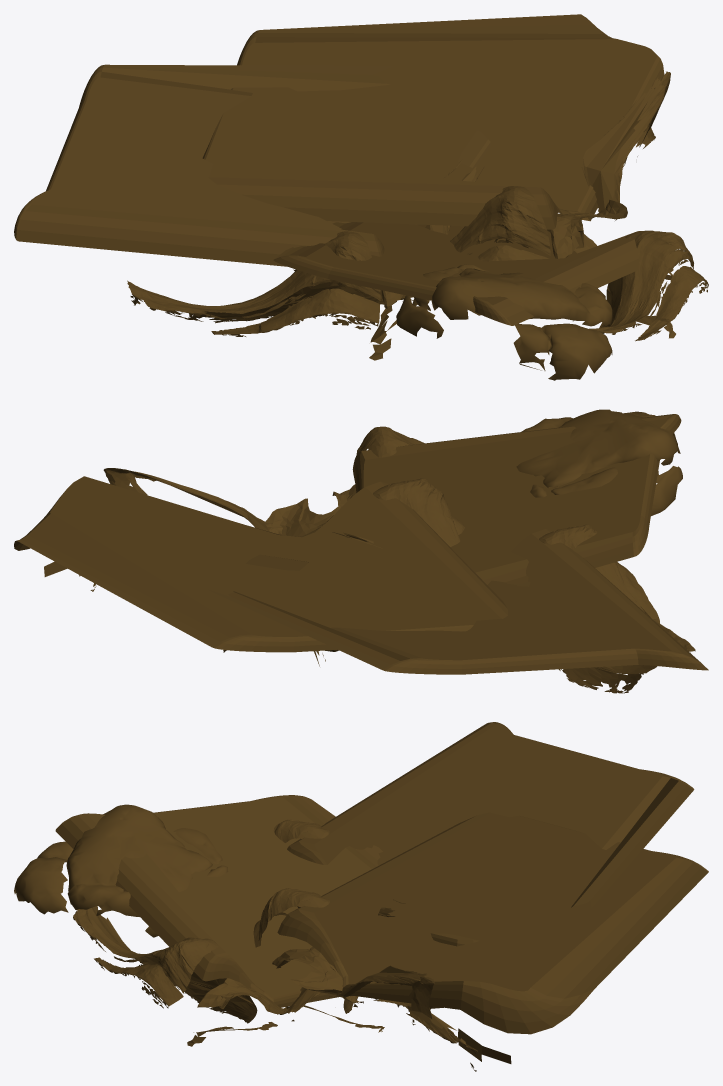
The model's file is GrassTerrain_014_Grass.glb.
The picture shows the model from 3 angles, top to bottom: view 1: azimuth 30°, elevation 25°; view 2: azimuth 150°, elevation 25°; view 3: azimuth 270°, elevation 25°; orthographic projection. The views are drawn at different scales.
Parts seen in each view (by area): view 1: 立方体.014_Grass; view 2: 立方体.014_Grass; view 3: 立方体.014_Grass.
Boxes of the visible parts, x1,y1,x2,y2 form: 立方体.014_Grass: (14,14,708,380); 立方体.014_Grass: (14,409,708,693); 立方体.014_Grass: (14,722,708,1071).
Size of the model in its own units: 1005 by 239 by 1022.
